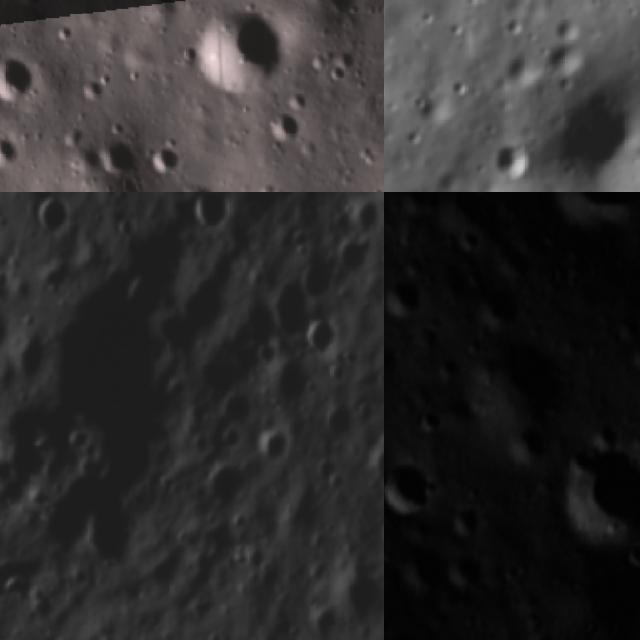crater: (22, 279, 180, 461), (547, 433, 640, 550), (191, 0, 290, 106), (548, 73, 640, 186), (493, 331, 567, 415), (384, 446, 451, 525), (528, 192, 640, 238), (4, 406, 64, 491), (83, 498, 141, 574), (397, 537, 456, 602), (476, 276, 536, 338), (35, 492, 92, 557), (338, 556, 384, 629), (262, 353, 318, 412), (384, 269, 435, 332), (435, 192, 497, 239), (507, 416, 558, 470), (272, 281, 315, 344), (487, 132, 533, 186), (32, 192, 81, 239), (442, 496, 491, 541), (0, 45, 37, 104), (202, 467, 248, 512), (98, 132, 141, 180), (188, 192, 231, 240), (321, 405, 363, 451), (331, 236, 376, 278), (300, 318, 346, 358), (142, 136, 183, 180), (254, 427, 294, 472), (296, 262, 338, 302), (258, 106, 298, 147), (548, 12, 586, 52), (349, 200, 384, 240), (74, 74, 108, 108), (308, 604, 339, 640), (362, 448, 384, 497), (0, 134, 25, 171), (399, 124, 428, 153), (168, 175, 216, 192), (384, 545, 396, 610), (137, 0, 174, 21), (55, 122, 87, 146), (620, 535, 640, 573), (284, 84, 310, 112), (498, 18, 524, 44), (0, 312, 10, 363), (446, 20, 469, 42), (13, 0, 53, 8), (338, 0, 364, 10)
